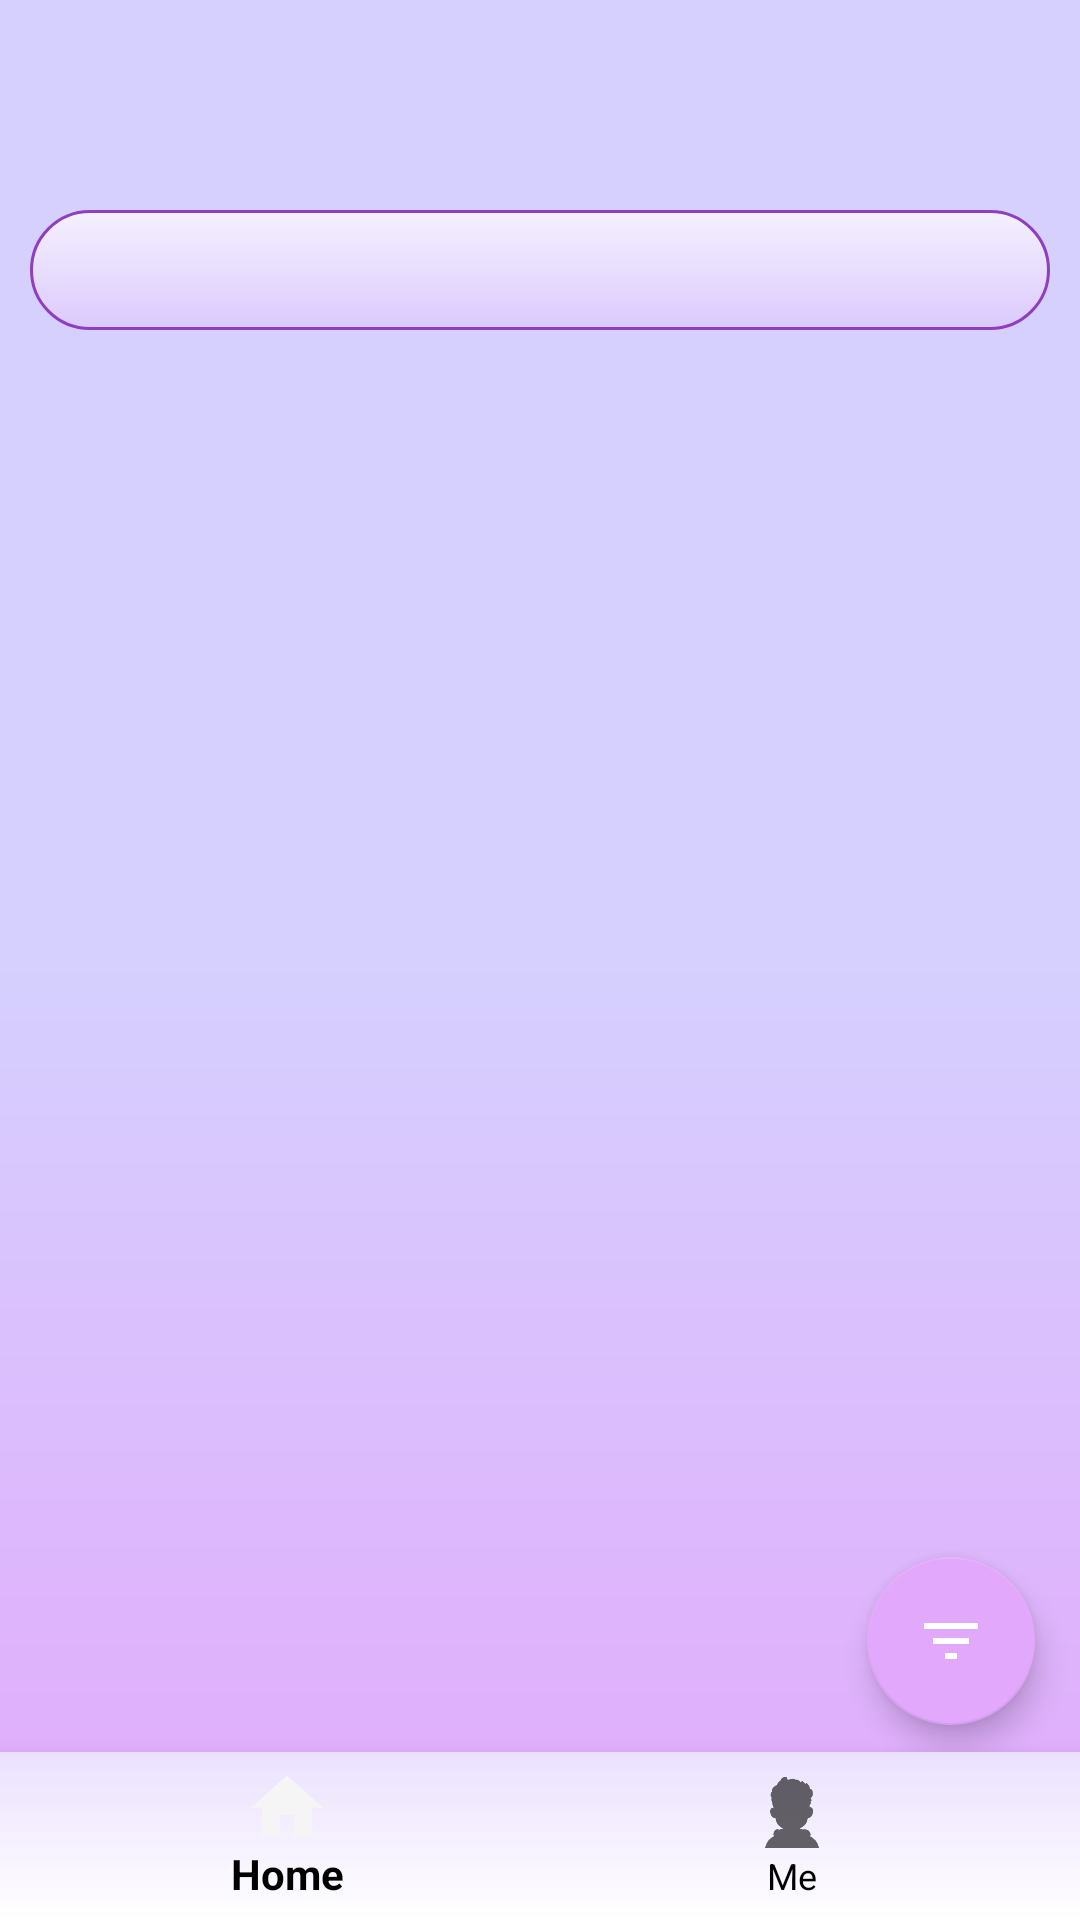

Icon bounding boxes for this 1080 x 1920 phone screenshot, format {"x1": x1, "y1": y1, "x2": x2, "y2": y2}:
filter list: {"x1": 867, "y1": 1557, "x2": 1035, "y2": 1725}
